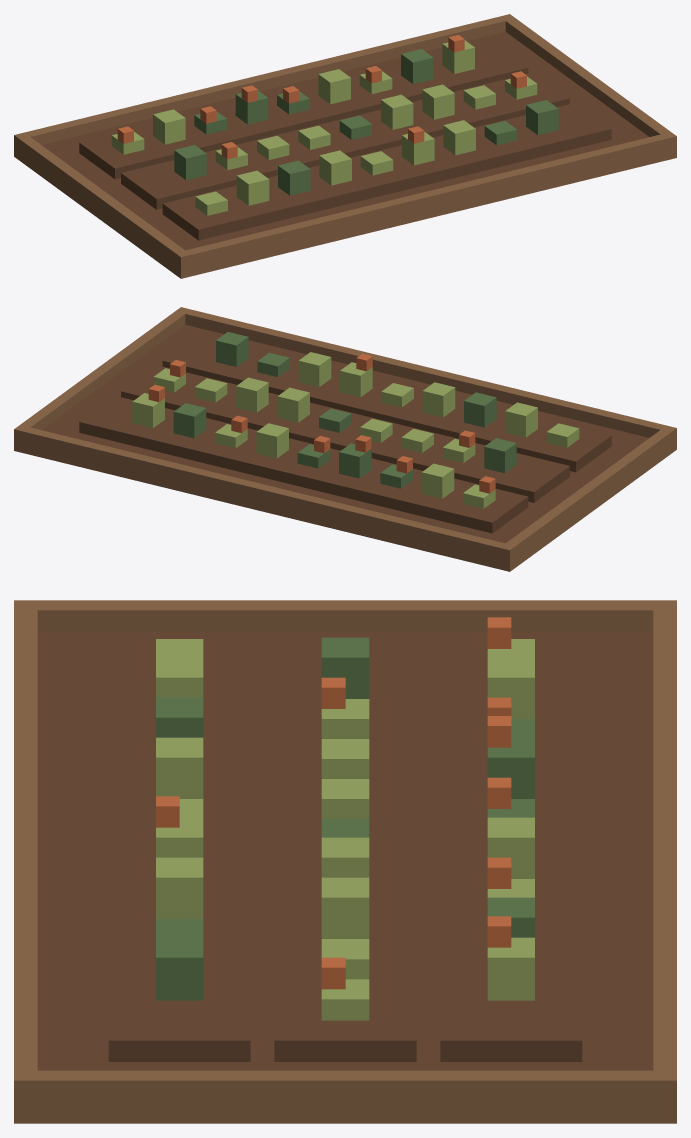
Rendered from hearthvale_garden_kitchen_48x28.obj.
3 views of the same model, one above another, from view 1: azimuth 30°, elevation 25°; view 2: azimuth 150°, elevation 25°; view 3: azimuth 270°, elevation 25° (orthographic). The views are drawn at different scales.
Visible parts, largest first — view 1: palette_2, palette_1, palette_4, palette_3, palette_5; view 2: palette_2, palette_1, palette_4, palette_3, palette_5; view 3: palette_2, palette_1, palette_4, palette_3, palette_5.
Boxes of the visible parts, <box> form: palette_2: <box>42,32,649,250</box>; palette_1: <box>14,14,676,278</box>; palette_4: <box>111,40,537,215</box>; palette_3: <box>174,49,558,195</box>; palette_5: <box>117,35,526,159</box>; palette_2: <box>41,325,648,543</box>; palette_1: <box>14,307,676,571</box>; palette_4: <box>132,352,579,508</box>; palette_3: <box>173,332,516,488</box>; palette_5: <box>148,353,495,493</box>; palette_2: <box>37,632,653,1070</box>; palette_1: <box>14,600,676,1123</box>; palette_4: <box>156,639,534,1020</box>; palette_3: <box>156,637,534,1000</box>; palette_5: <box>156,617,511,989</box>.
Bounding box in the file's own units: 3 × 0.3125 × 1.75.
